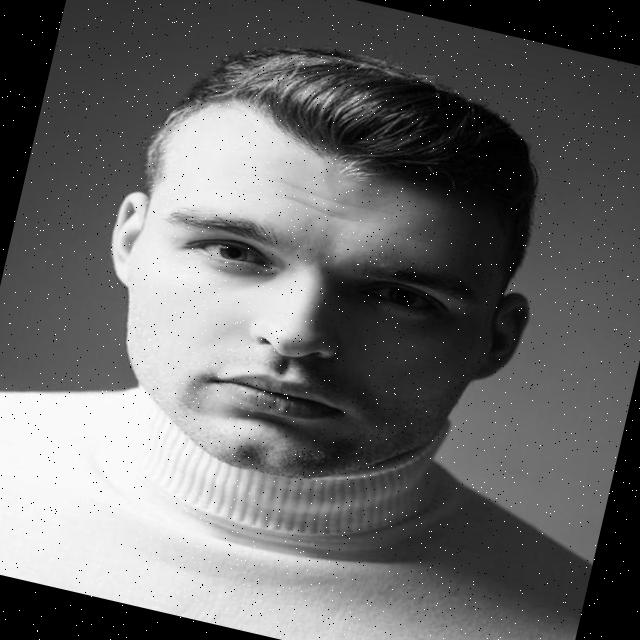Neutral: (95, 121, 522, 516)
